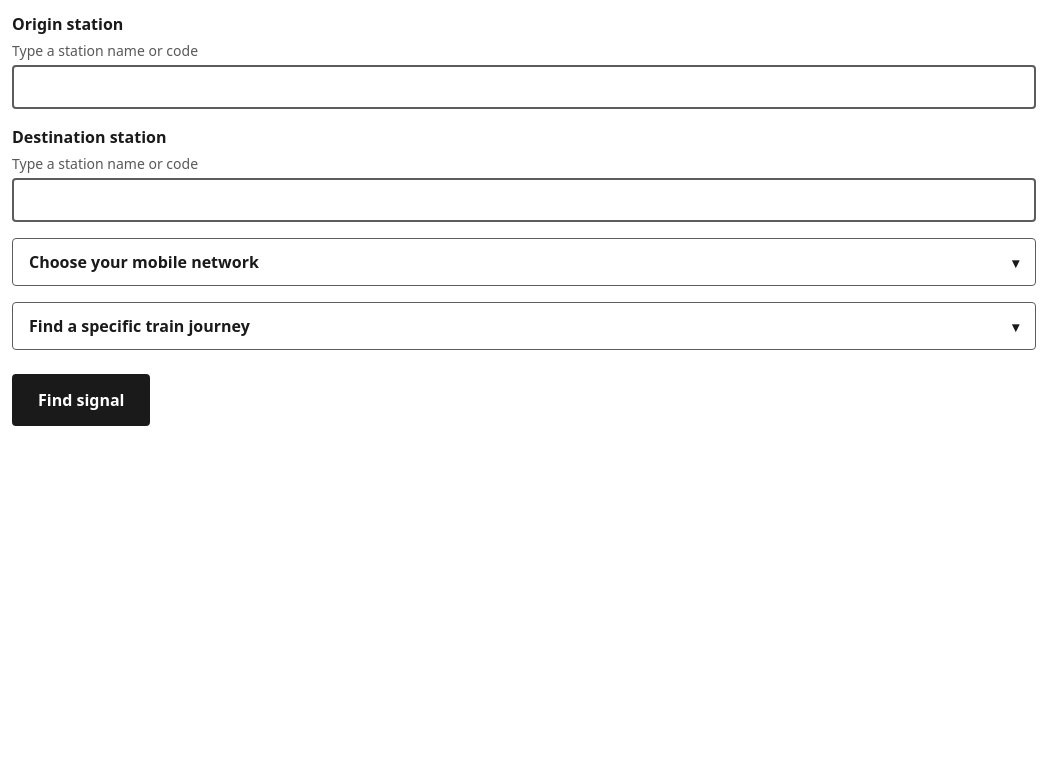
Scenario: JourneyForm progressive reveal › reveals date/time fields when toggle is clicked
Click the button "Find a specific train journey ▾": (139, 326) [12,302,1036,350]
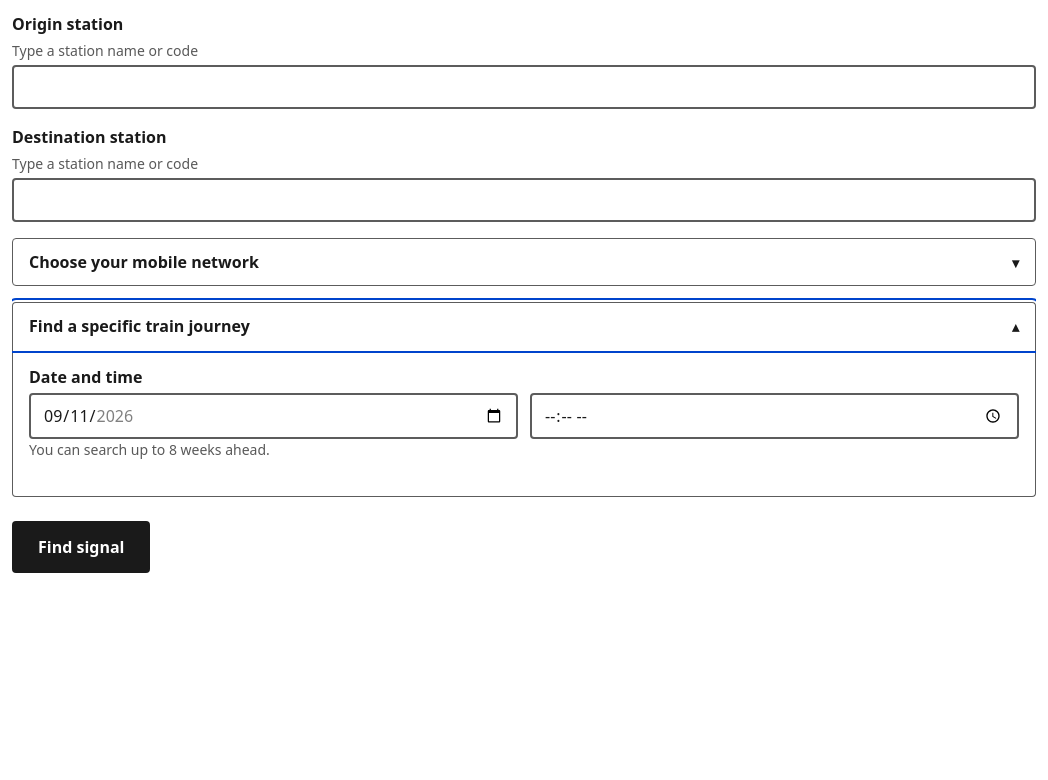
Expected: the button "Find a specific train journey ▴" is expanded, [12,302,1036,349]
